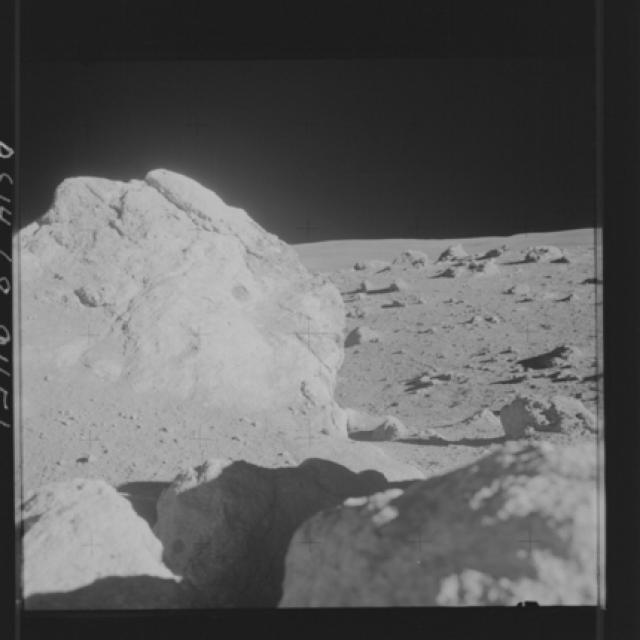rock: (19, 154, 358, 448), (19, 453, 603, 616), (484, 389, 600, 442), (525, 341, 596, 367), (363, 412, 413, 444), (438, 254, 492, 282), (521, 240, 575, 266), (343, 319, 383, 350), (386, 243, 430, 270), (433, 241, 466, 266), (386, 276, 408, 298)
